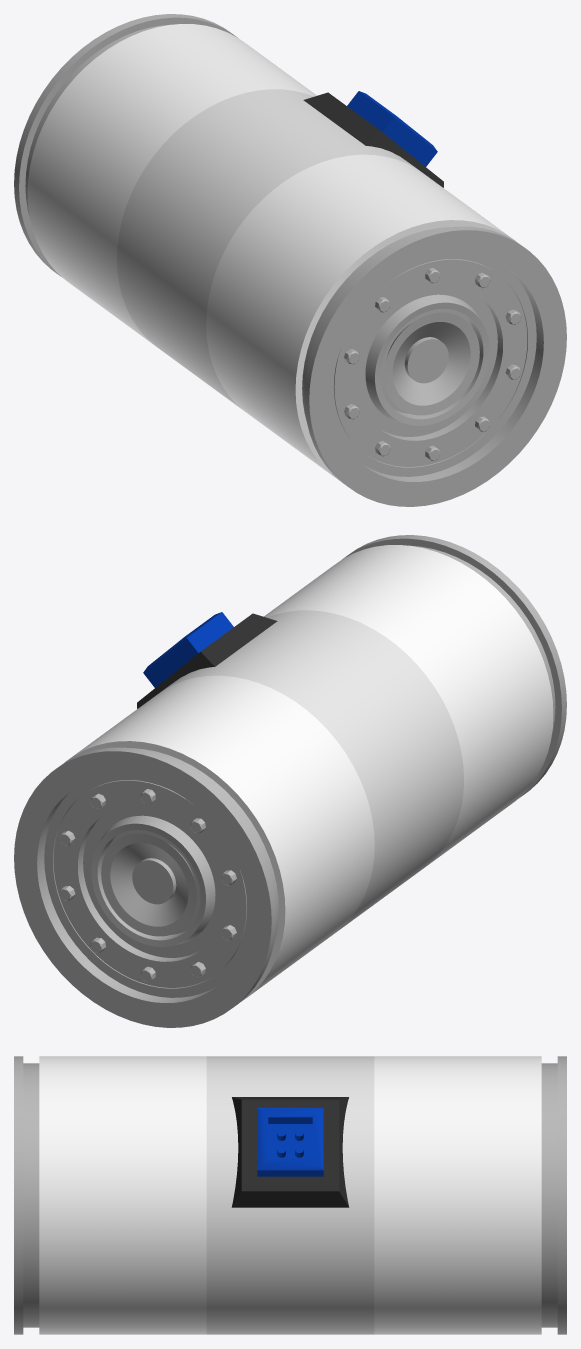
Rendered from InlineTank.gltf.
The picture shows the model from 3 angles, top to bottom: view 1: azimuth 30°, elevation 25°; view 2: azimuth 150°, elevation 25°; view 3: azimuth 270°, elevation 25°; orthographic projection. The views are drawn at different scales.
Visible parts, largest first — view 1: Cylinder; view 2: Cylinder; view 3: Cylinder.
Part boxes in pixels (box(x1,y1,x2,y2)): Cylinder: box(14, 14, 566, 506); Cylinder: box(14, 535, 566, 1027); Cylinder: box(14, 1056, 566, 1334).
Size of the model in its own units: 0.2506 by 0.2506 by 0.4957.
